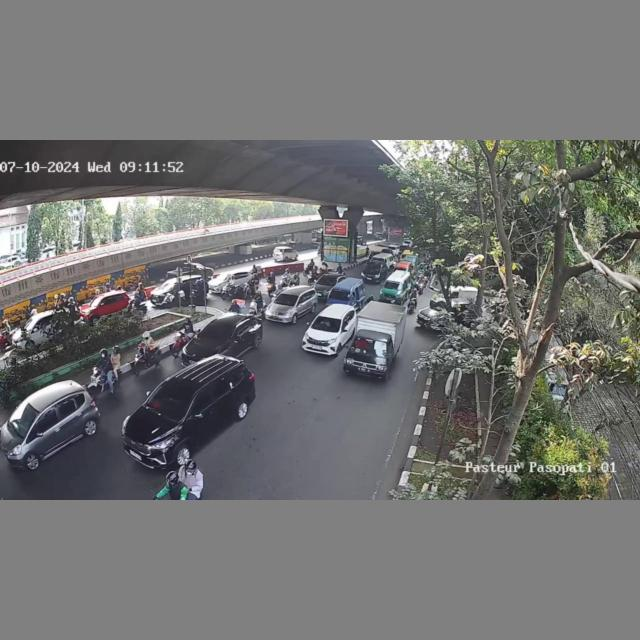windshield: (146, 382, 198, 422), (352, 335, 388, 359), (199, 324, 232, 342), (311, 314, 341, 333), (273, 292, 299, 307), (329, 288, 351, 301), (383, 280, 403, 290), (317, 276, 336, 285)
